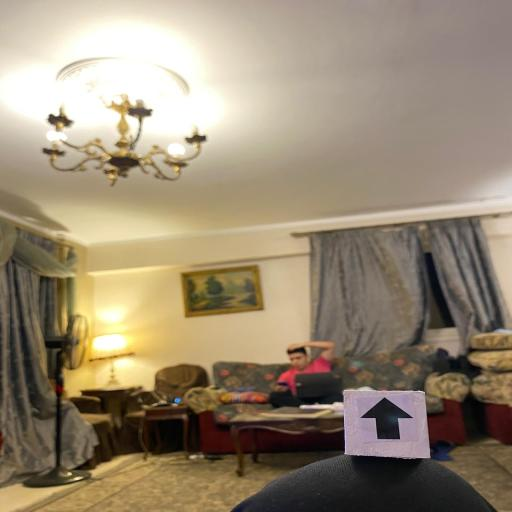Up: (342, 388, 430, 460)
